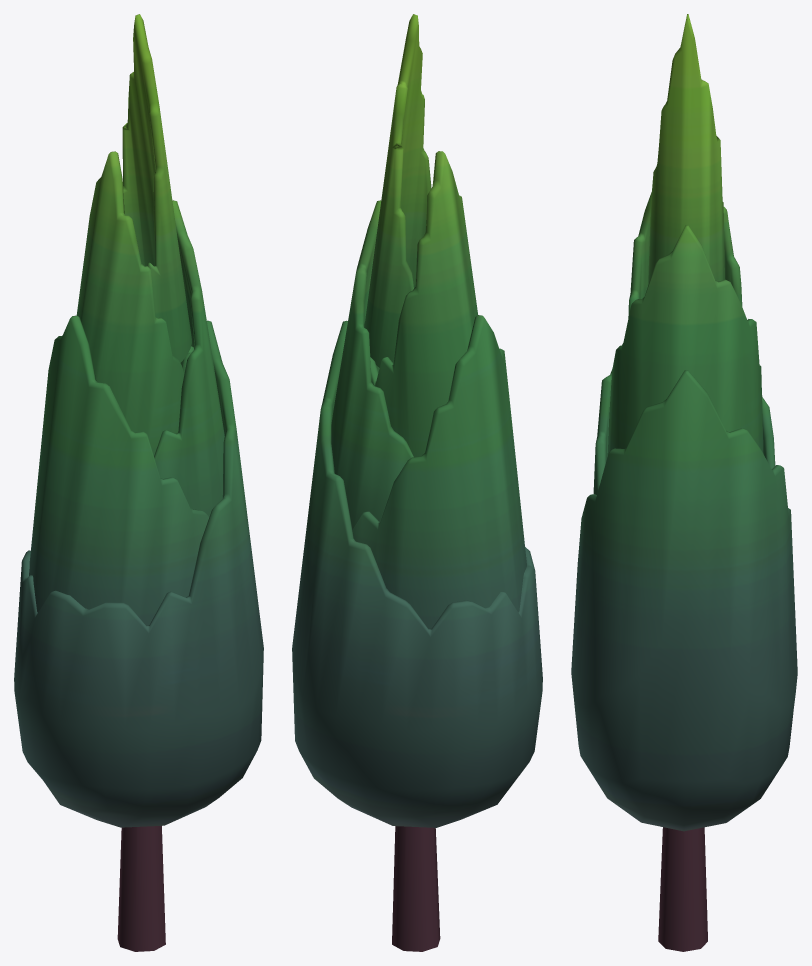
The model's file is Tree_29.fbx.
3 renders of one model, left to right at view 1: azimuth 30°, elevation 25°; view 2: azimuth 150°, elevation 25°; view 3: azimuth 270°, elevation 25°, orthographic.
Parts seen in each view (by area): view 1: Tree_29; view 2: Tree_29; view 3: Tree_29.
Boxes of the visible parts, x1,y1,x2,y2 form: Tree_29: [14, 14, 263, 951]; Tree_29: [292, 14, 542, 951]; Tree_29: [571, 14, 797, 951].
Bounding box in the file's own units: 166 × 686 × 152.
